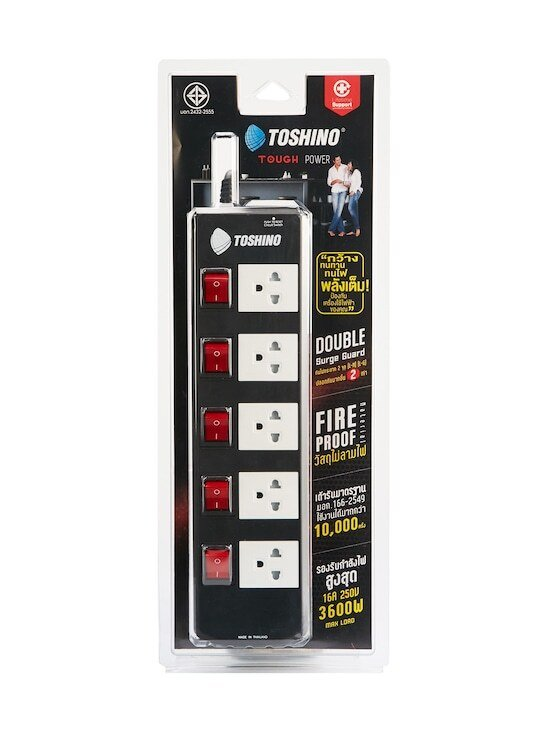Three_eye_plug: (187, 194, 310, 648)
